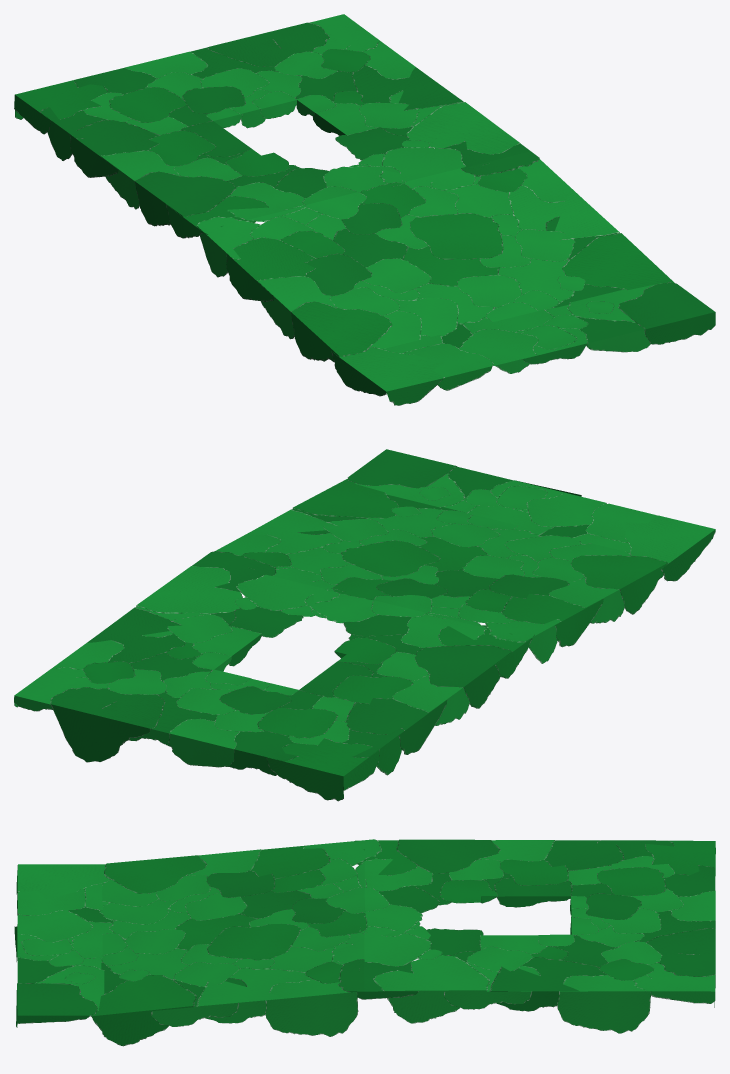
Rendered from Rumput.001.fbx.
The picture shows the model from 3 angles, top to bottom: view 1: azimuth 30°, elevation 25°; view 2: azimuth 150°, elevation 25°; view 3: azimuth 270°, elevation 25°; orthographic projection. The views are drawn at different scales.
Parts seen in each view (by area): view 1: Rumput.001; view 2: Rumput.001; view 3: Rumput.001.
Part boxes in pixels (x1,y1,x2,y2): Rumput.001: (14,14,715,405); Rumput.001: (14,449,715,801); Rumput.001: (14,839,715,1046).
Bounding box in the file's own units: 192 × 41.66 × 370.
